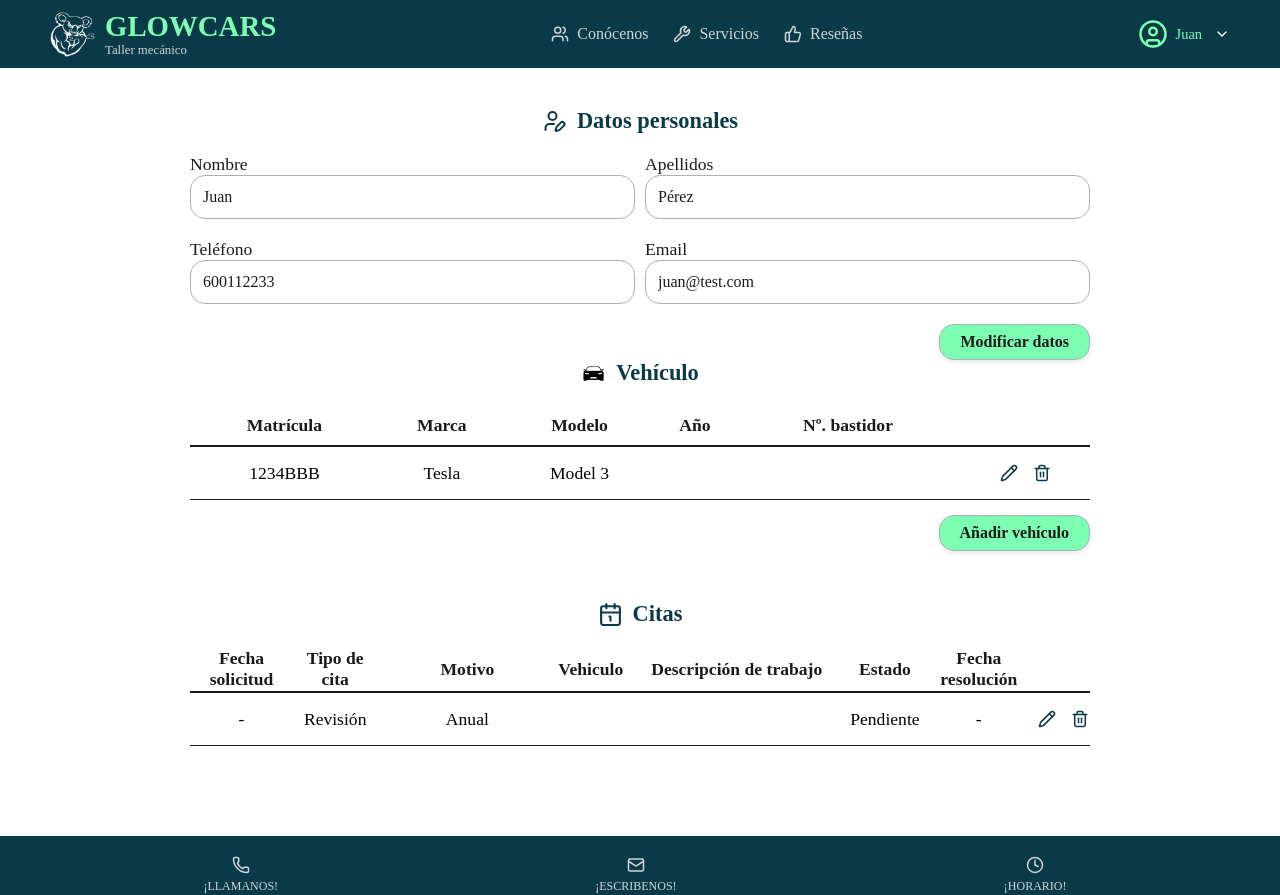
Pruebas en <Perfil /> › debe mostrar modal de error si el vehículo tiene citas asociadas al intentar borrar
Expected: the text "Tesla" is shown, [379,446,505,500]
What coordinates should you click on to do the following:
click the 1st icon with class "lucide-trash2"
I would click on:
 (1042, 473)
Its box is [1033,464,1051,482].
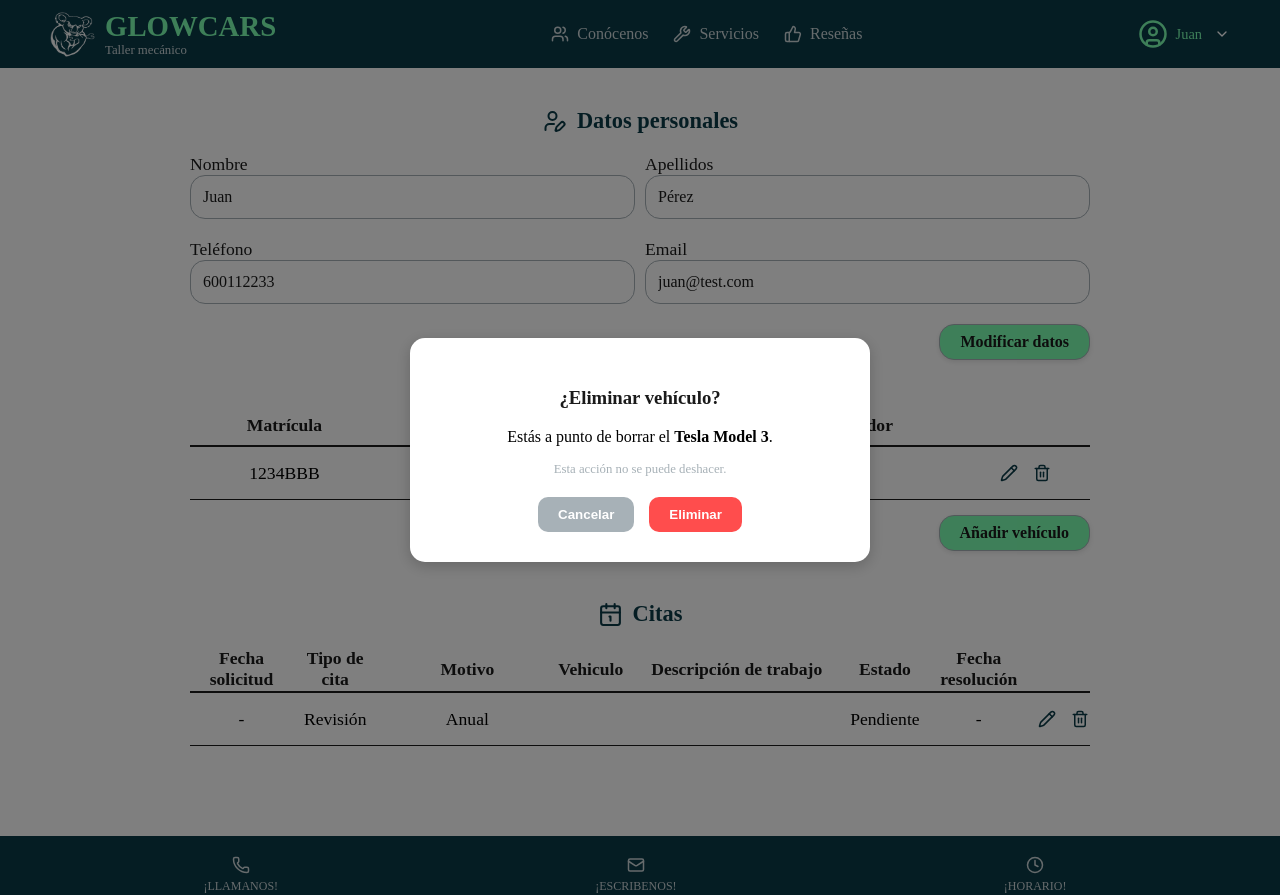
What coordinates should you click on to do the following:
click the button "Eliminar"
I would click on:
 (696, 514)
Its box is [649,497,742,532].
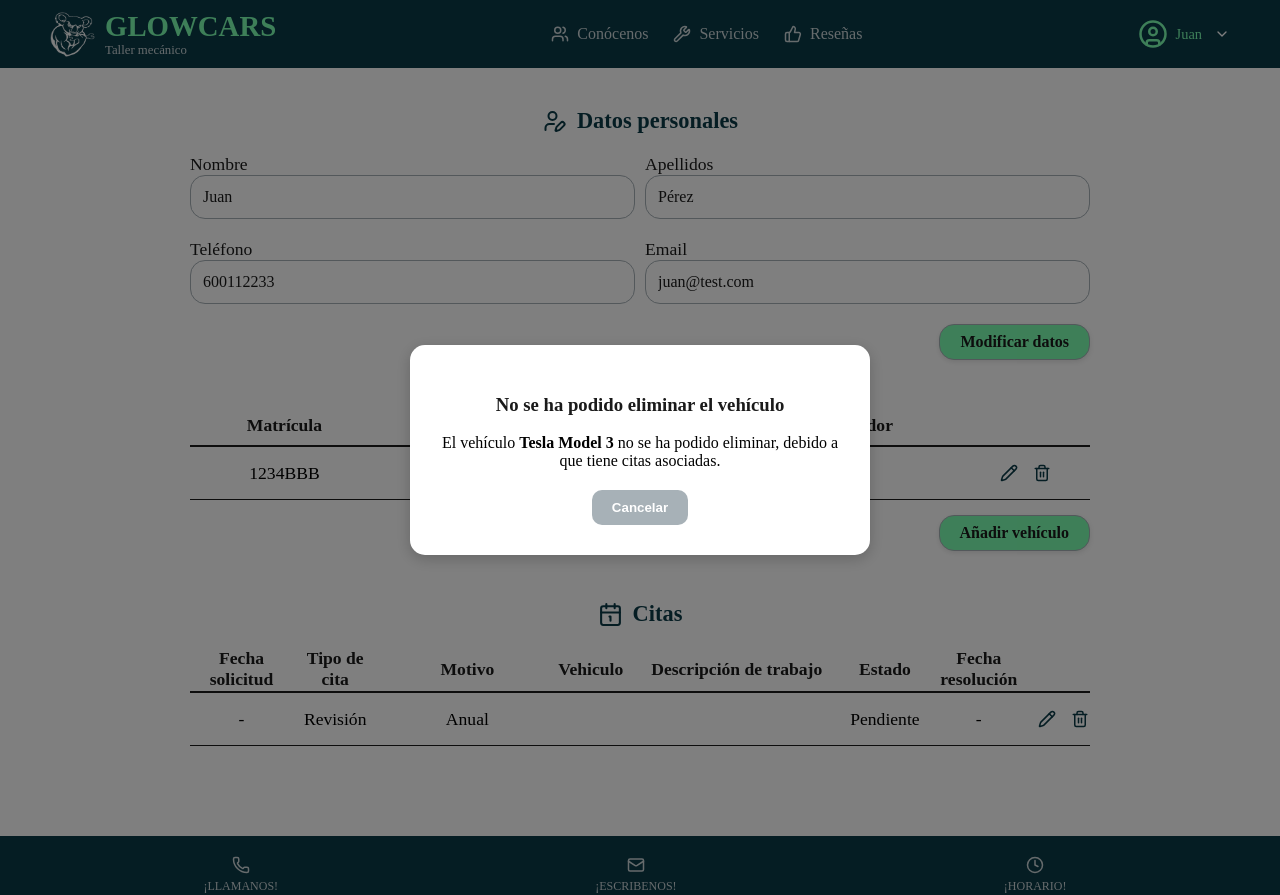
Now the heading "No se ha podido eliminar el vehículo" is shown, box [496,394,784,414]
